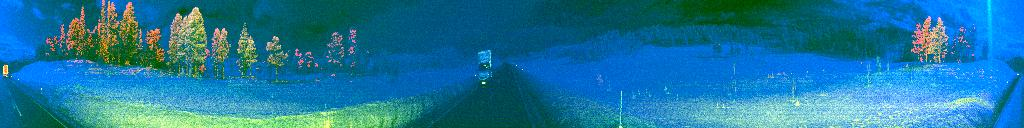pole: (616, 87, 625, 128), (322, 101, 334, 128)
